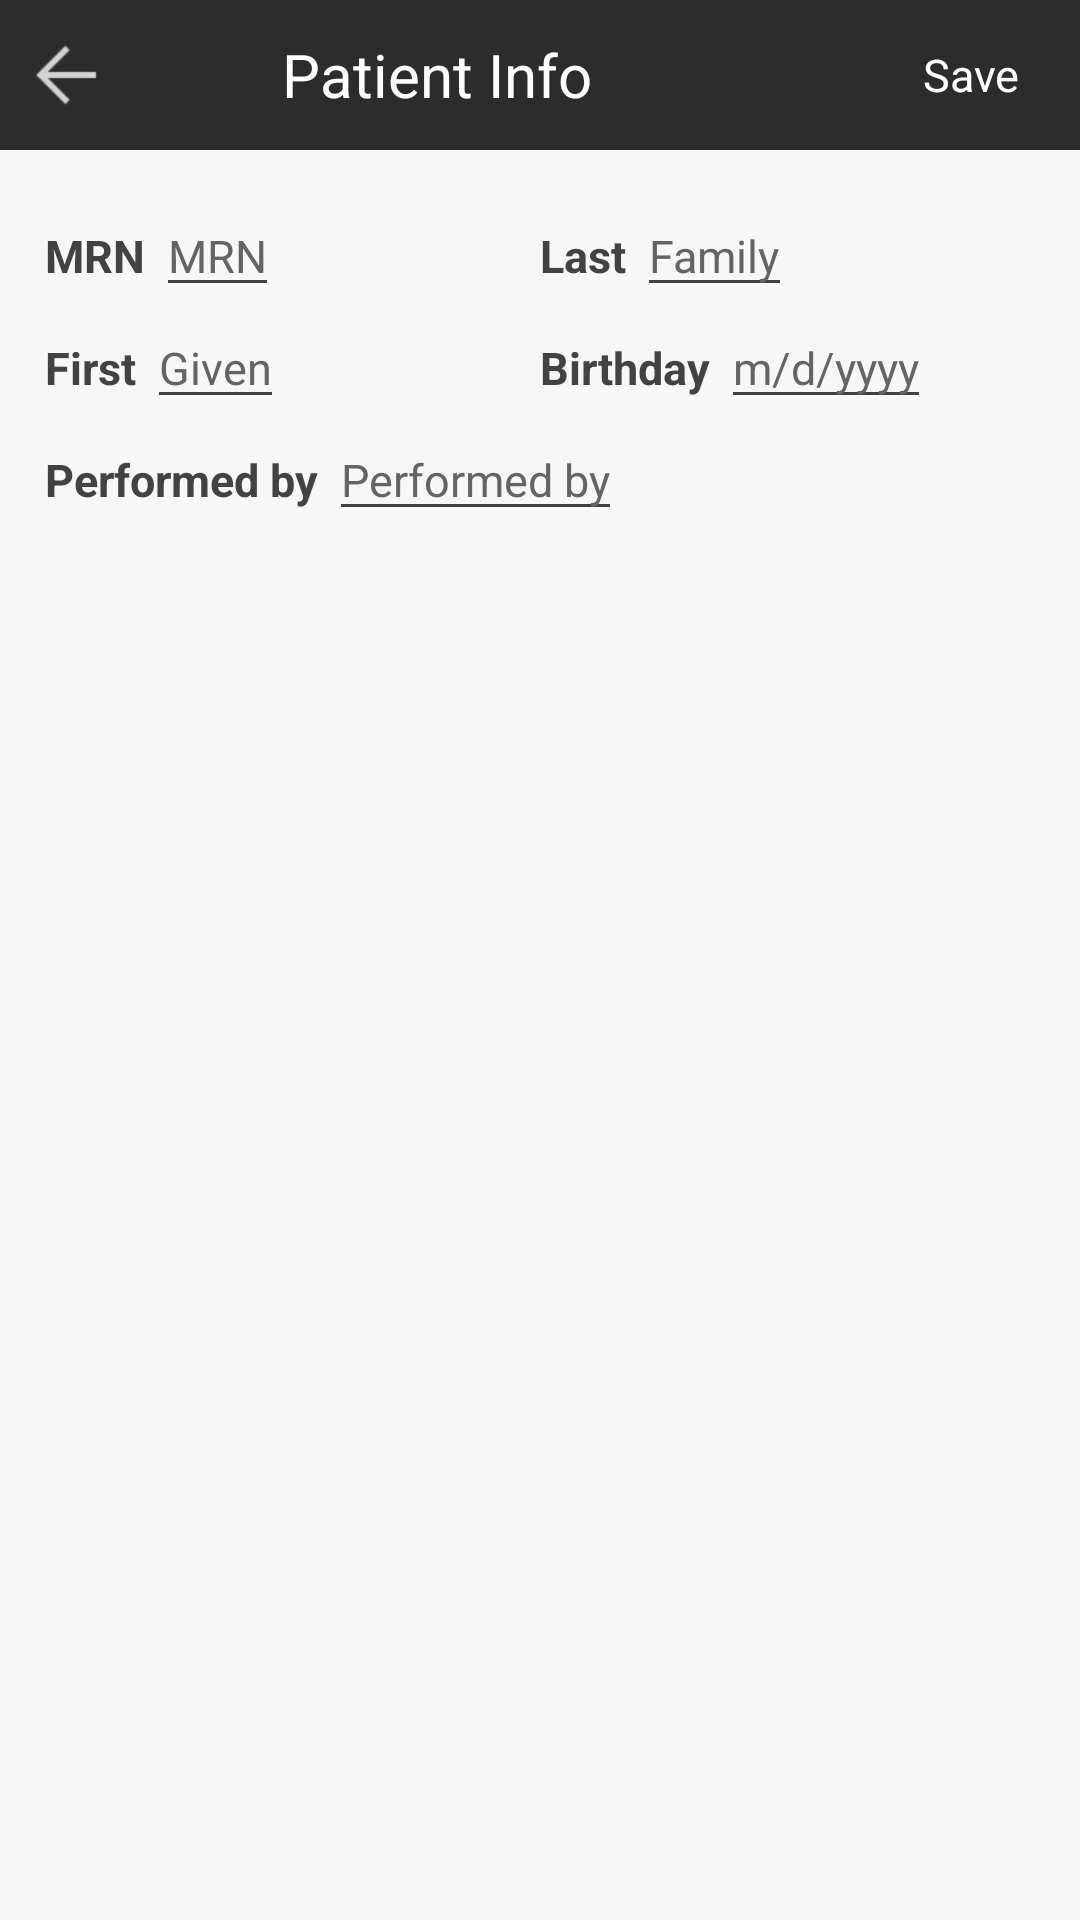

Point at icon controls on the screen. Image size 1080w x 1920h, points as (x,y).
back: (66,75)
